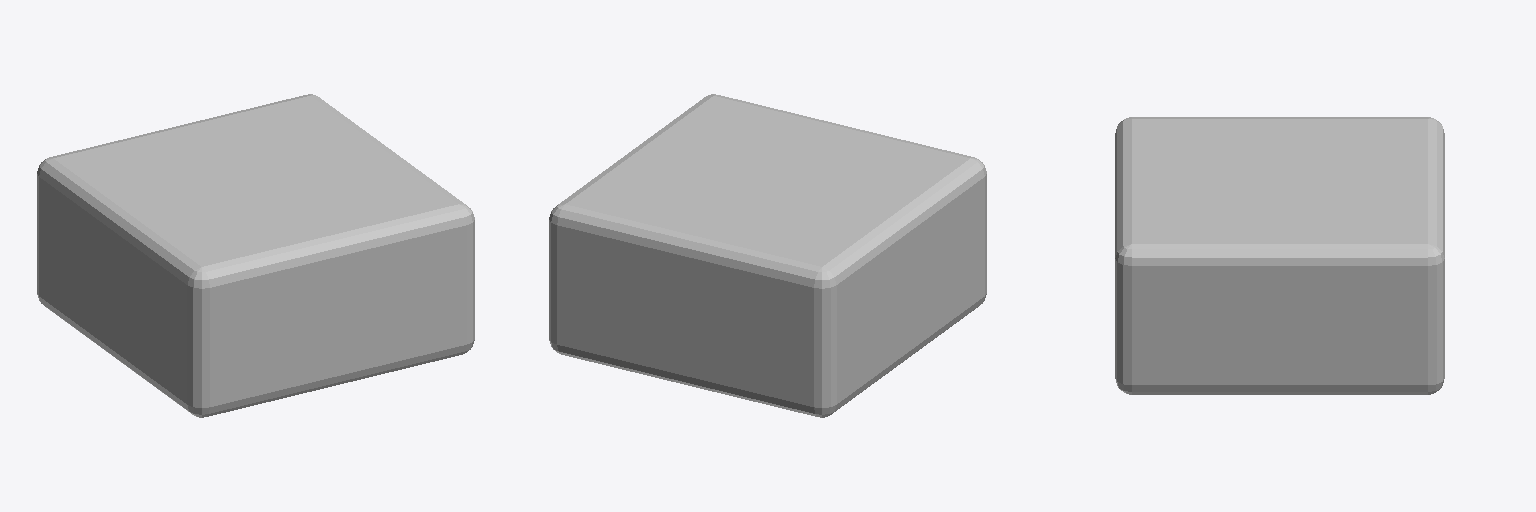
Rendered from blockRoundedLarge.obj.
The picture shows the model from 3 angles: view 1: azimuth 30°, elevation 25°; view 2: azimuth 150°, elevation 25°; view 3: azimuth 270°, elevation 25°; orthographic projection.
Visible parts, largest first — view 1: blockRoundedLarge; view 2: blockRoundedLarge; view 3: blockRoundedLarge.
Part boxes in pixels (bbox=[...]): blockRoundedLarge: bbox=[37, 94, 474, 417]; blockRoundedLarge: bbox=[549, 94, 986, 417]; blockRoundedLarge: bbox=[1115, 117, 1444, 394].
Bounding box in the file's own units: 2 × 1 × 2.